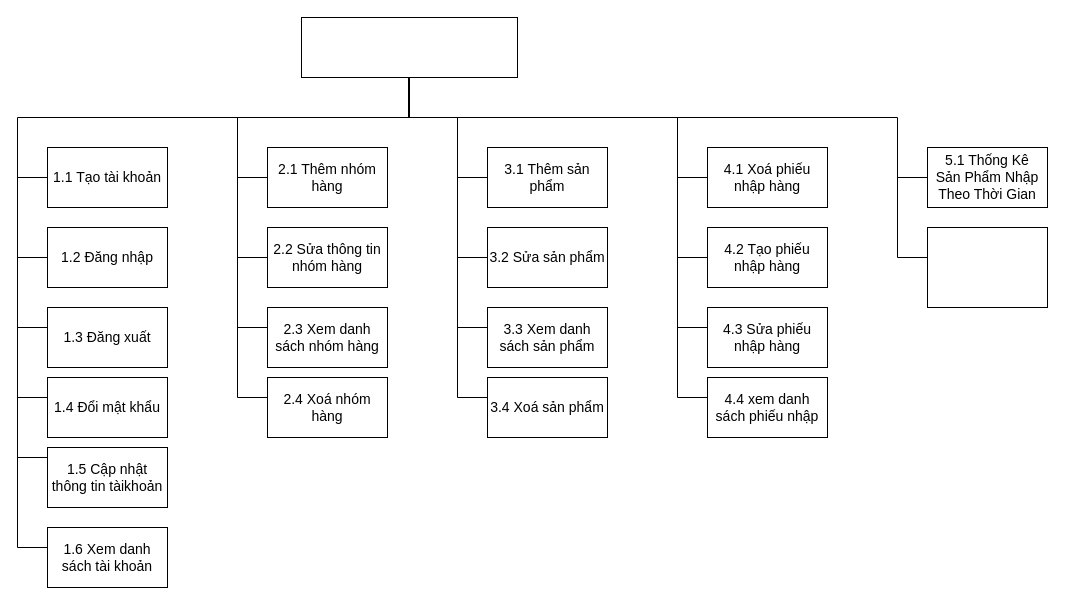
This 1065x605 diagram has some shape labels left out. Here are the shapes that lost their labels. From the top down, the box of each, then its label:
(300, 16, 518, 78): Quản Lý Nhập Hàng Thiết Bị Bếp
(926, 226, 1048, 308): 5.2 Thống Kê Sản Phẩm NhậpTheo Nhóm Hàng và Thời Gian
